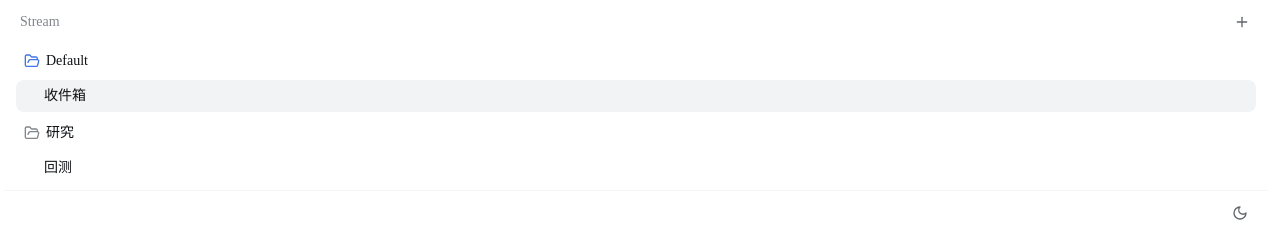
it: 宿主动作栏（footer） › 给了 theme：按一下调 toggle，图标与文案翻到新的目标态
Click the button named "切换到深色" at (1240, 213), box left=1224, top=197, right=1256, bottom=229
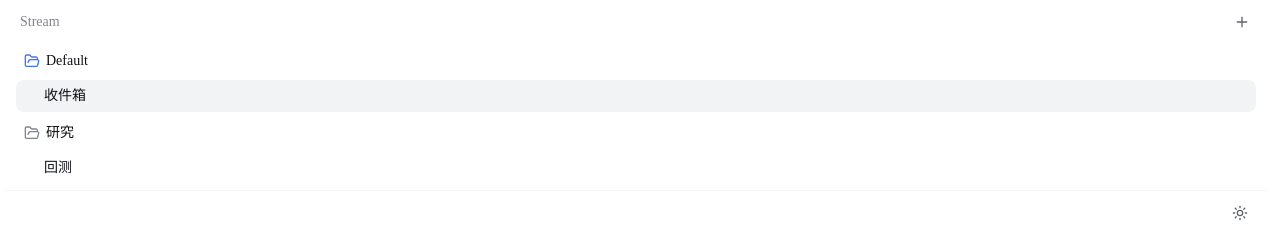
Now the button named "切换到浅色" is shown, box left=1224, top=197, right=1256, bottom=229
